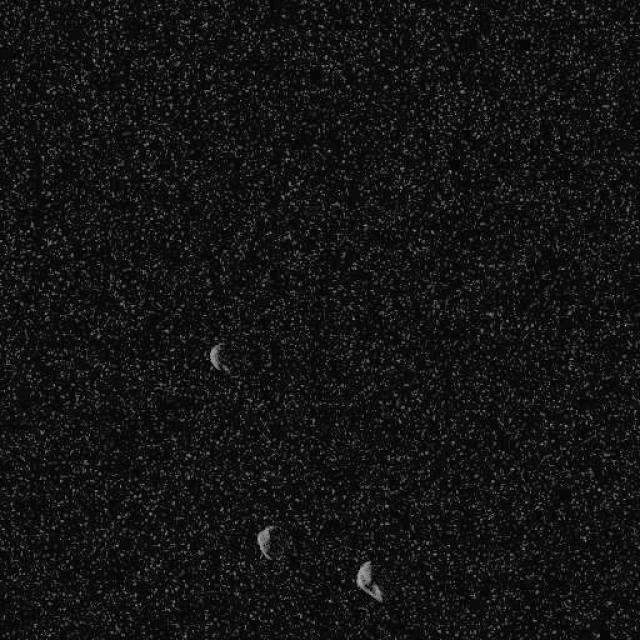D2: (354, 558, 384, 602), (208, 341, 232, 374), (255, 524, 275, 560)
